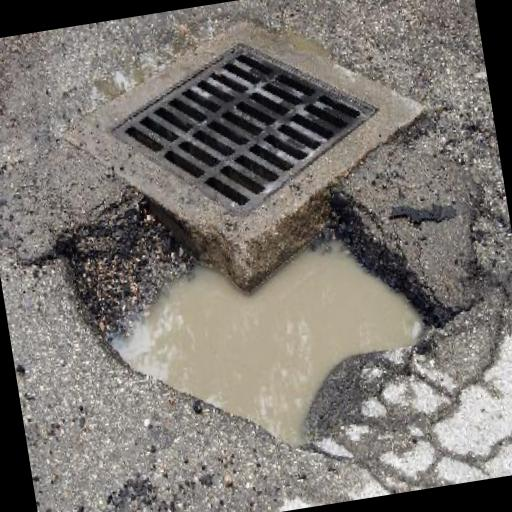pothole: (42, 142, 468, 482)
